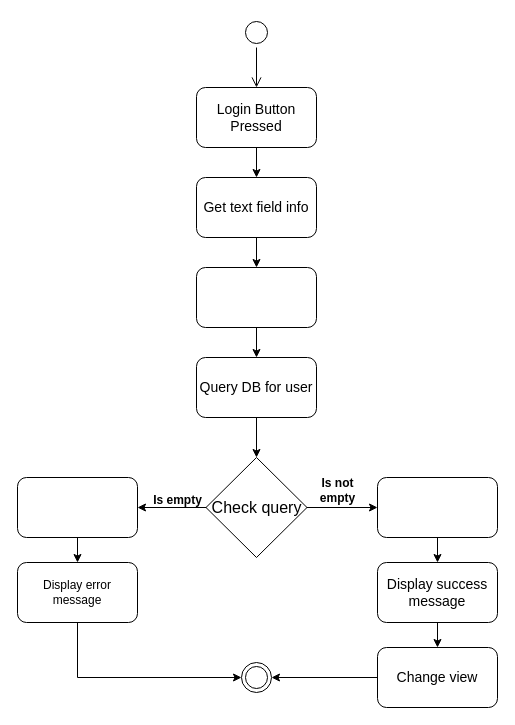
Some shapes in this 515 by 725 pixel diagram are drawn without their labels. The centre of each missing label's shape, as x and y in pixels:
"Open DB connection" belongs at [256,297].
"Return current session" belongs at [437,507].
"Return error" belongs at [77,507].
